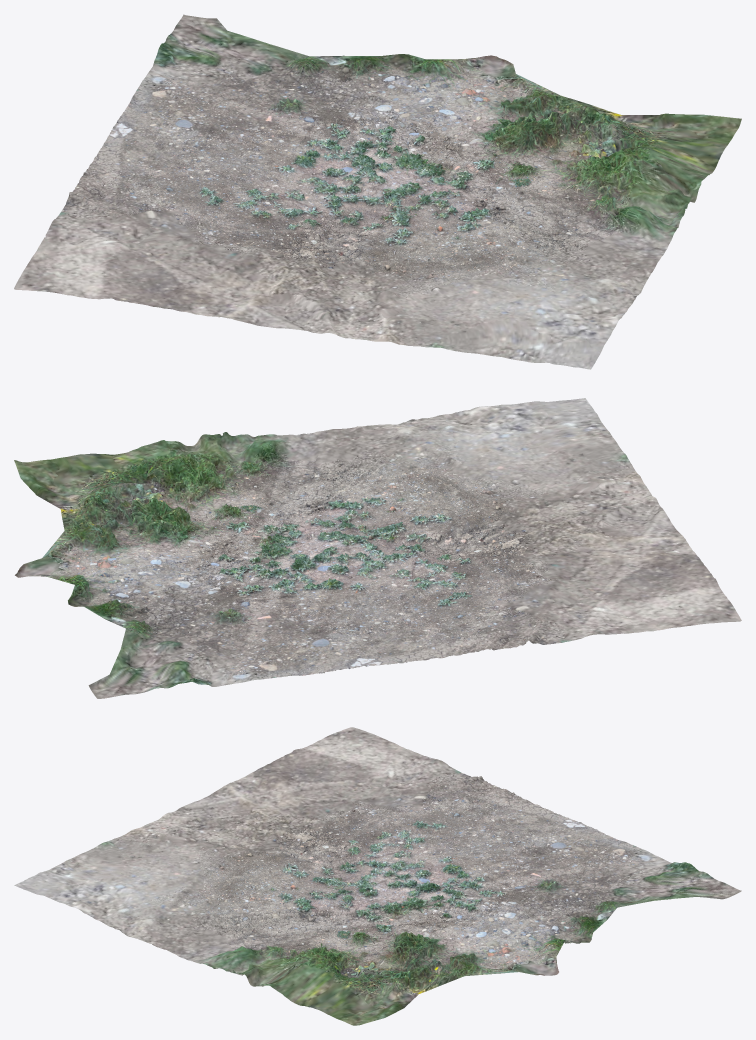
Rendered from ground_vegetation.glb.
3 renders of one model, top to bottom at view 1: azimuth 30°, elevation 25°; view 2: azimuth 150°, elevation 25°; view 3: azimuth 270°, elevation 25°, orthographic. The views are drawn at different scales.
Parts seen in each view (by area): view 1: Object_4, Object_5; view 2: Object_4, Object_5; view 3: Object_4, Object_5.
Part boxes in pixels (x1,y1,x2,y2): Object_4: (14, 14, 741, 369); Object_5: (110, 61, 640, 267); Object_4: (14, 398, 741, 698); Object_5: (89, 443, 482, 671); Object_4: (14, 727, 741, 1025); Object_5: (224, 818, 605, 978).
Size of the model in its own units: 3.83 by 0.1579 by 4.09.
Materials: 1 (1 with a texture image).
